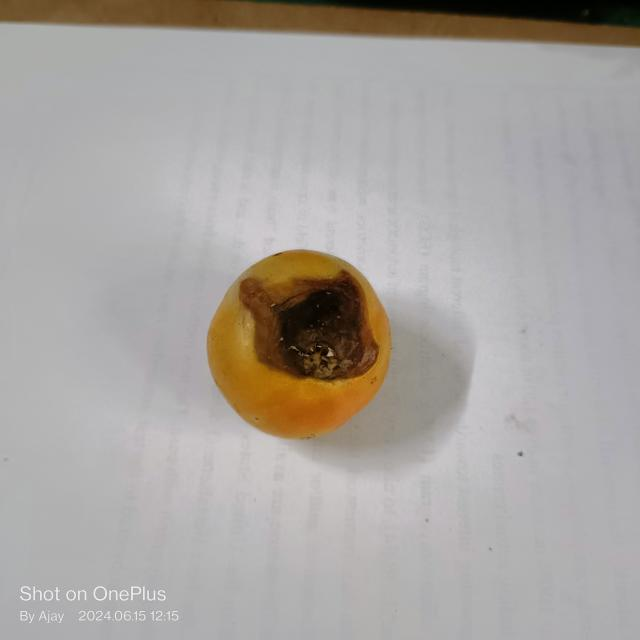Anthrocnose: (237, 273, 378, 379)
